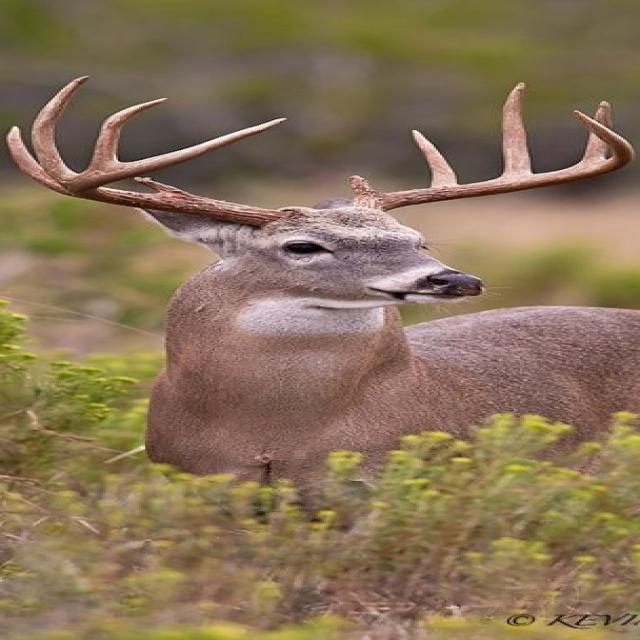L-F: (336, 109, 638, 213)
L-G1: (344, 173, 383, 198)
L-G2: (409, 128, 460, 188)
L-G3: (496, 81, 535, 178)
R-F: (74, 117, 302, 228)
R-G1: (131, 175, 196, 195)
R-G2: (4, 125, 84, 199)
R-G3: (30, 74, 95, 186)
R-G4: (88, 97, 170, 169)
